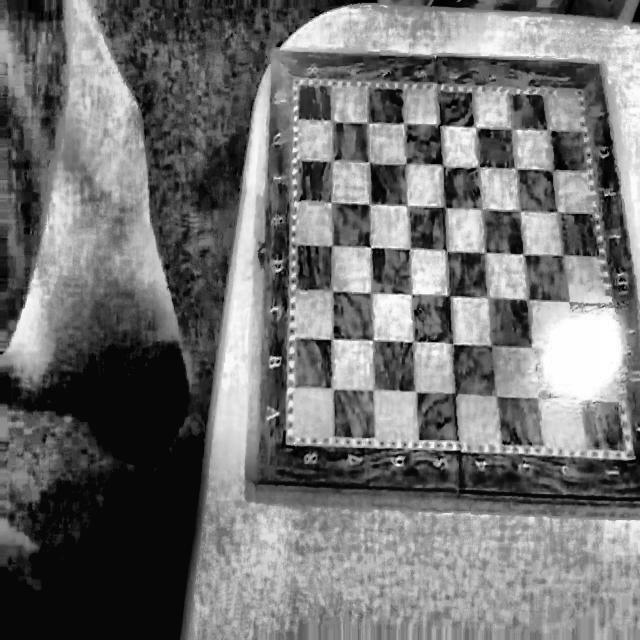chessboard: (256, 50, 640, 500)
